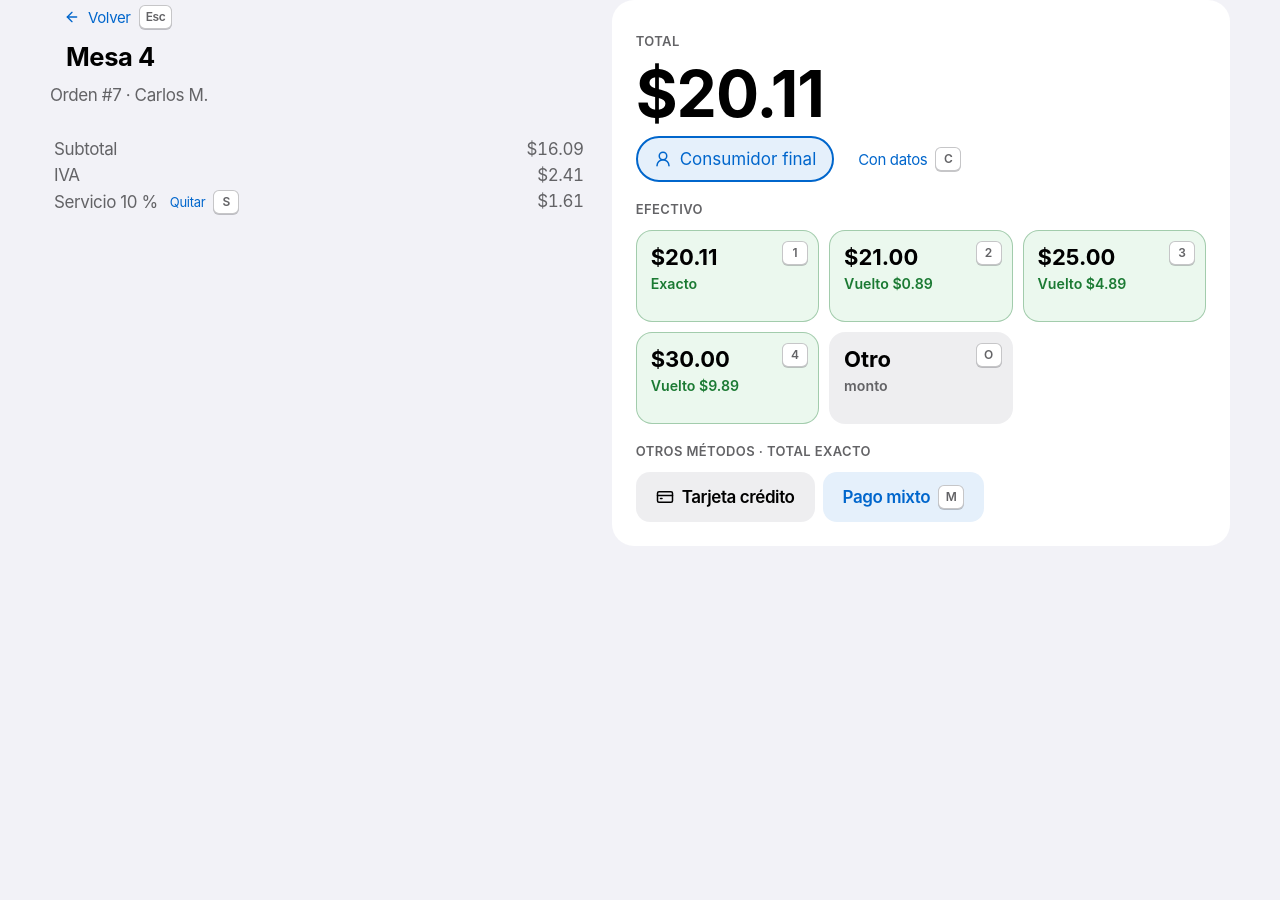
Test: servicio (propina legal) › el cajero lo quita con un motivo y los billetes se recalculan
Expected: the text with test id "total" reads "$20.11", left=636, top=55, right=824, bottom=132
Press s
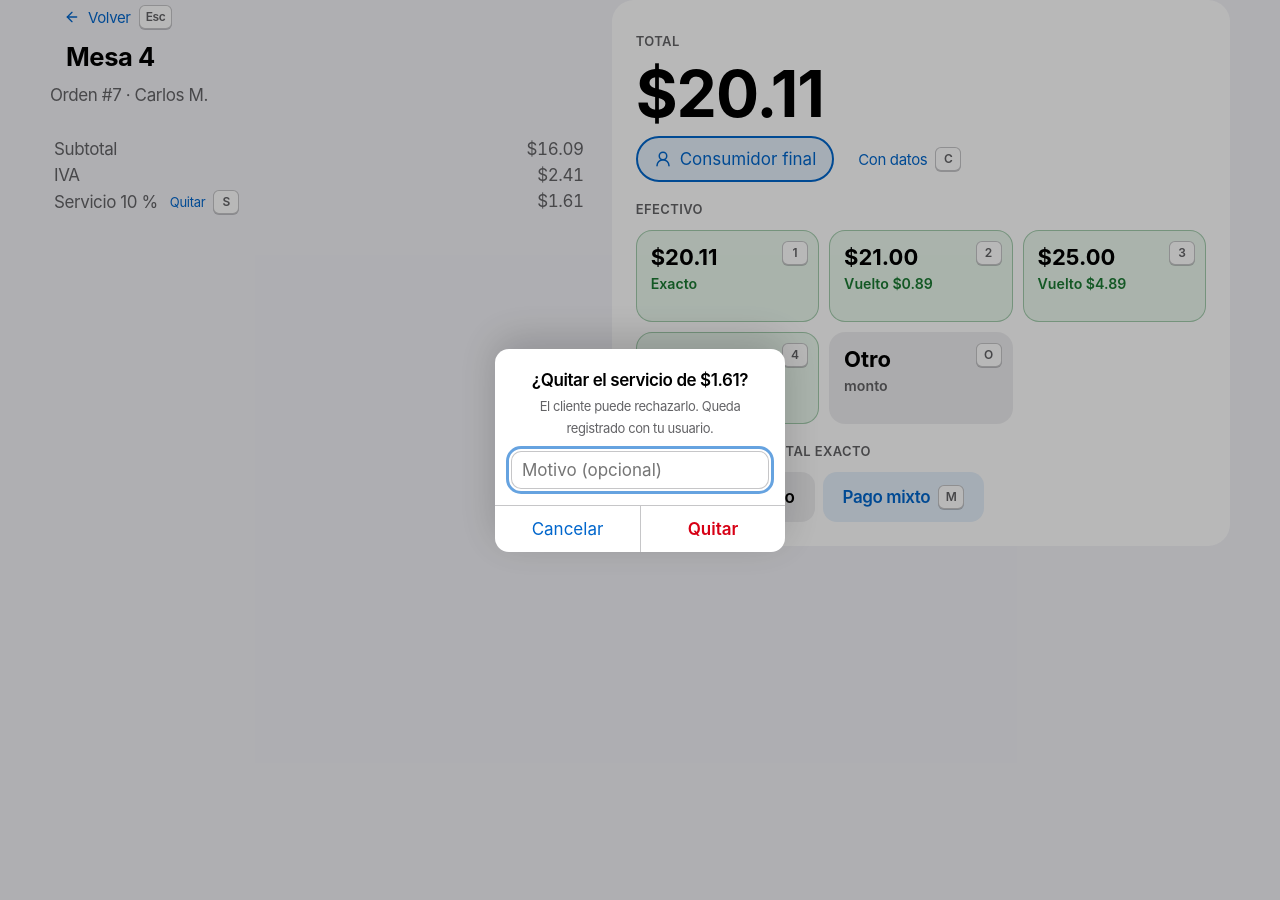
Type "No quiere pagar servicio" into the field with test id "motivo-servicio" at (640, 470), box left=511, top=450, right=769, bottom=488
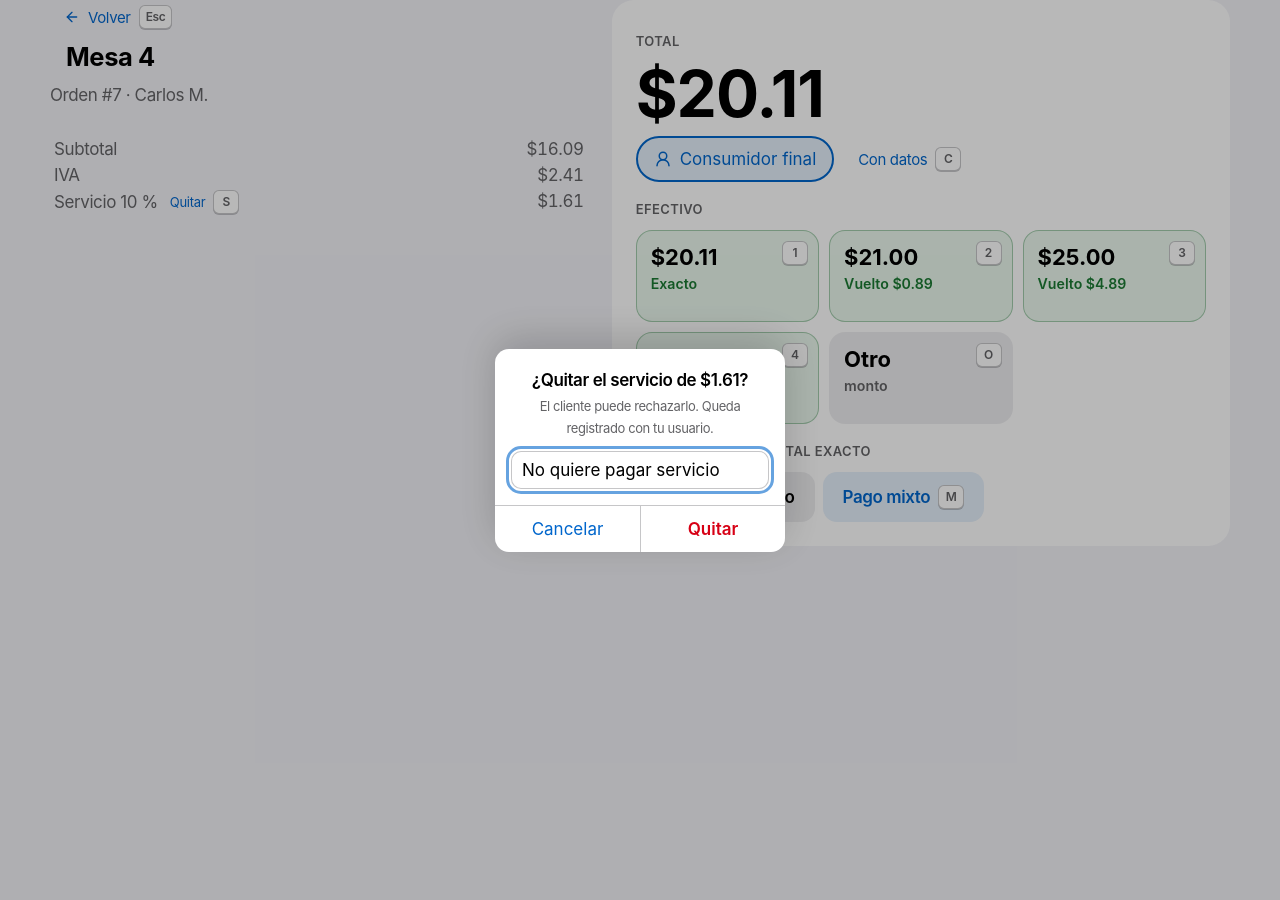
Click the button with test id "quitar-servicio" at (712, 528), box left=640, top=506, right=785, bottom=552
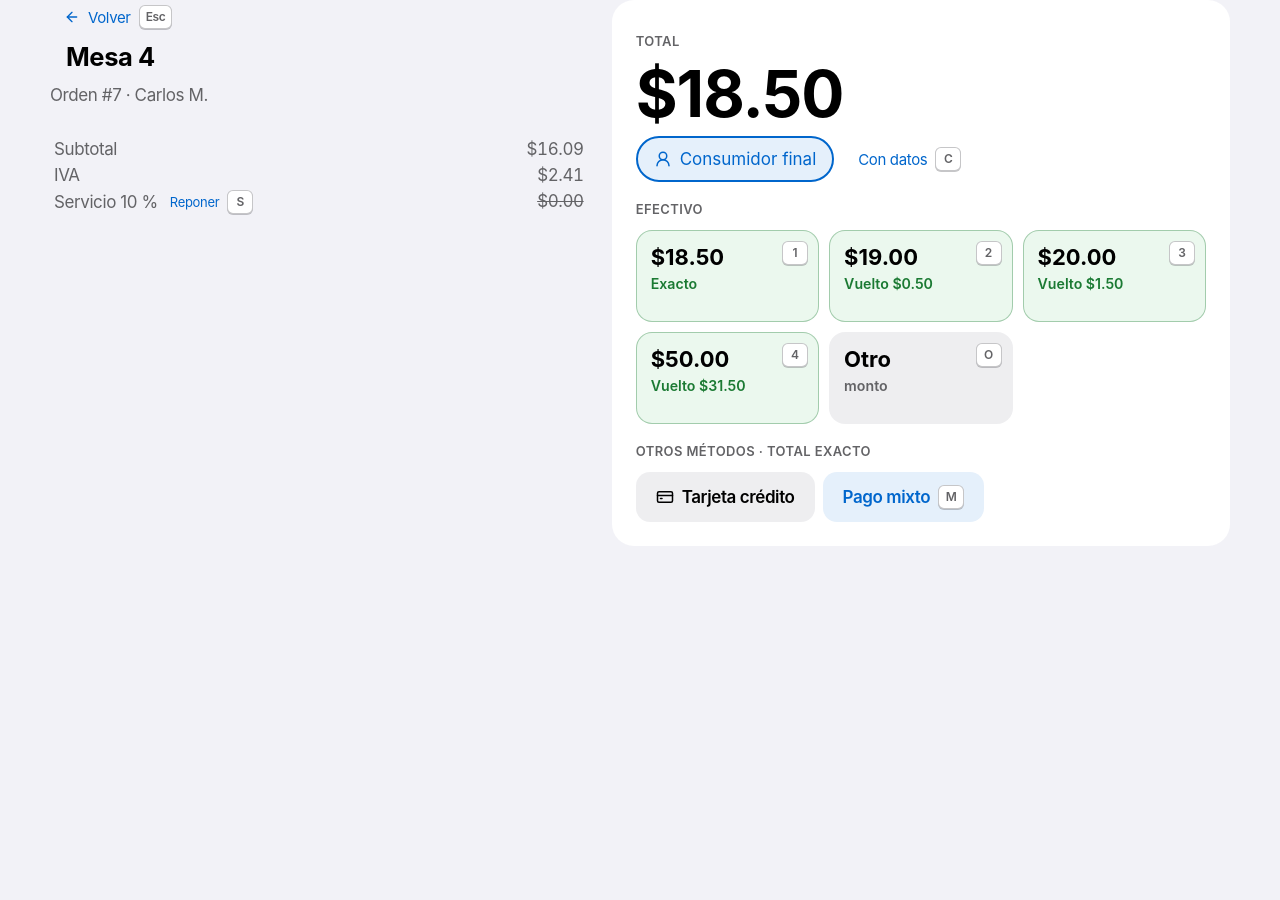
Expected: the text with test id "total" reads "$18.50", left=636, top=55, right=844, bottom=132
Expected: the button with test id "billete-18.50" is shown, left=636, top=230, right=819, bottom=322
Expected: the button with test id "servicio" shows "Reponer", left=164, top=190, right=259, bottom=214
